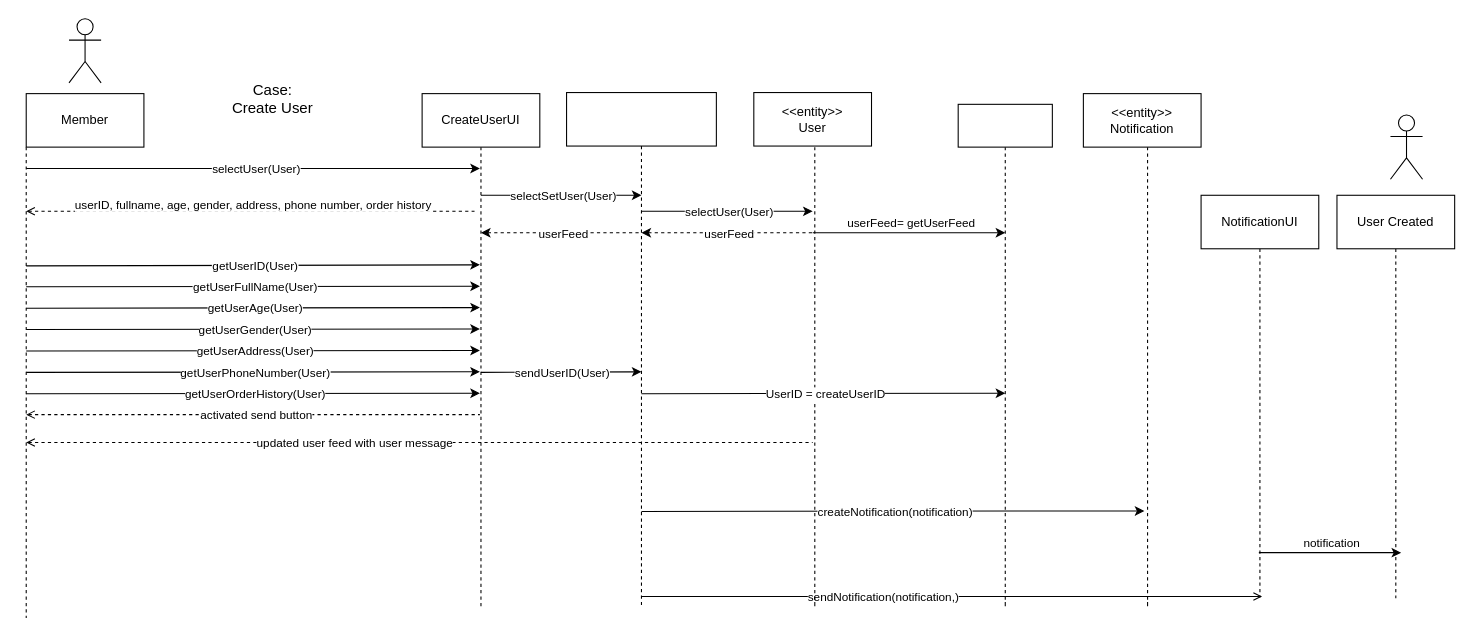
This 1473x638 diagram has some shape labels left out. The shapes that lost their labels are listed below. From the top down, each one's box as (x1, y1, x2, y2) in pixels, then its label:
(565, 91, 716, 146): <<controller>> SetUser
(957, 103, 1052, 147): <<entity>> UserID
